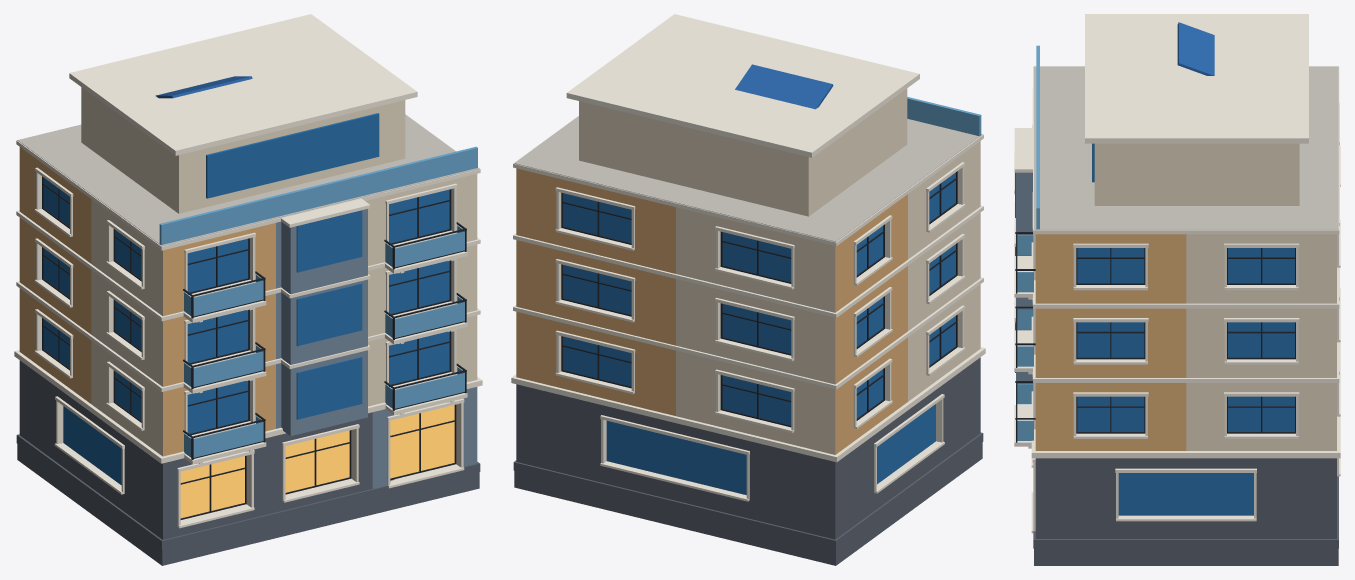
File: 07c_midrise_attic-lod0.glb
The picture shows the model from 3 angles, left to right: view 1: azimuth 30°, elevation 25°; view 2: azimuth 150°, elevation 25°; view 3: azimuth 270°, elevation 25°; orthographic projection. The views are drawn at different scales.
Visible parts, largest first — view 1: MidriseAttic_LOD0; view 2: MidriseAttic_LOD0; view 3: MidriseAttic_LOD0.
Boxes of the visible parts, x1,y1,x2,y2 form: MidriseAttic_LOD0: [14, 14, 482, 565]; MidriseAttic_LOD0: [511, 14, 985, 565]; MidriseAttic_LOD0: [1014, 14, 1340, 565].
Size of the model in its own units: 14.5 by 17.27 by 12.13.
2 materials, 2 textured.
